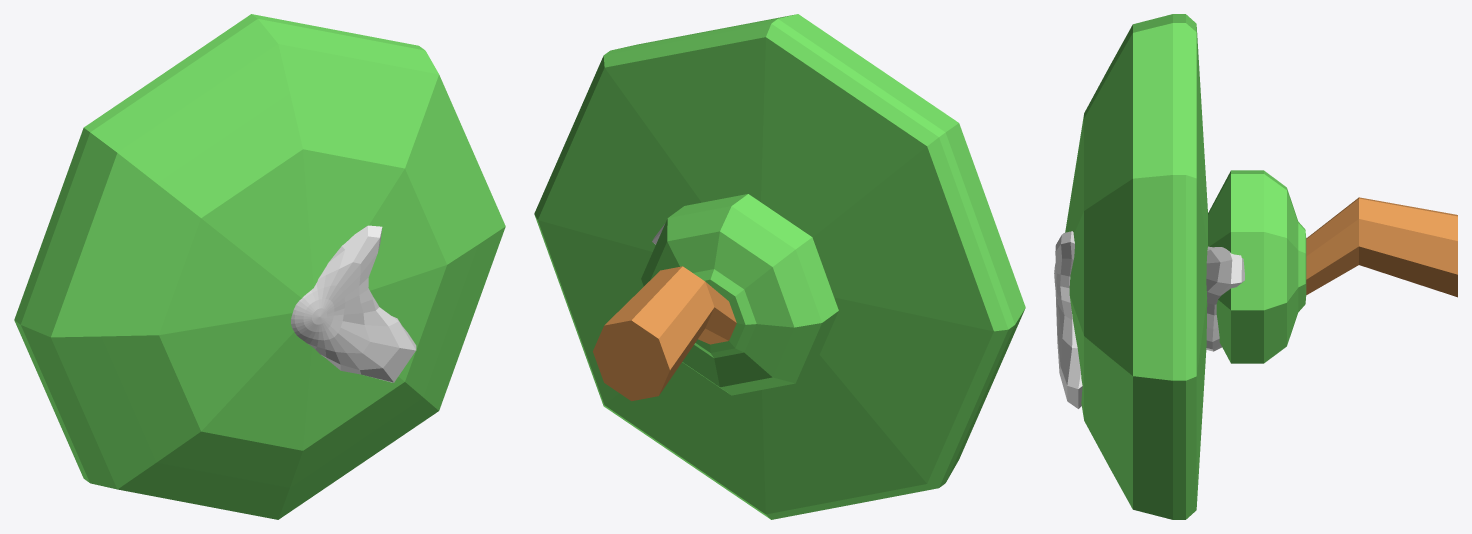
The model's file is TreeWithSnow5.fbx.
3 views of the same model, side by side, from view 1: azimuth 30°, elevation 25°; view 2: azimuth 150°, elevation 25°; view 3: azimuth 270°, elevation 25° (orthographic).
Parts seen in each view (by area): view 1: Tree; view 2: Tree; view 3: Tree.
Boxes of the visible parts, bbox=[...] form: Tree: bbox=[14, 14, 505, 519]; Tree: bbox=[534, 14, 1025, 519]; Tree: bbox=[1054, 14, 1457, 519].
Bounding box in the file's own units: 1227 × 1227 × 920.
